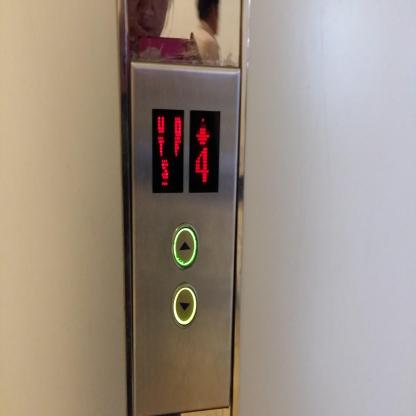down: (170, 282, 198, 329)
led: (150, 105, 185, 196), (187, 106, 222, 197)
up: (170, 222, 199, 270)
